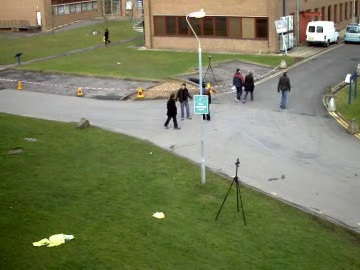person: (176, 83, 192, 121), (163, 93, 178, 129), (163, 93, 177, 129)
